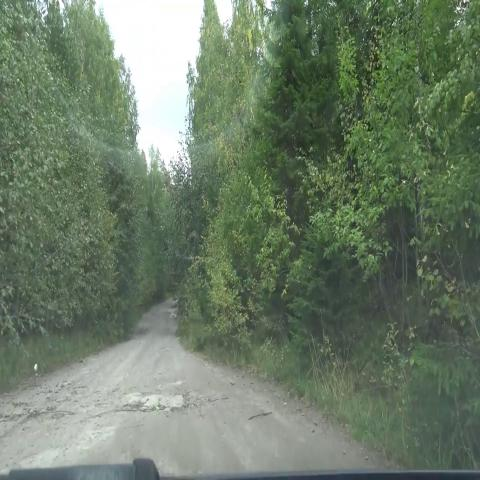pothole: (102, 381, 213, 419)
